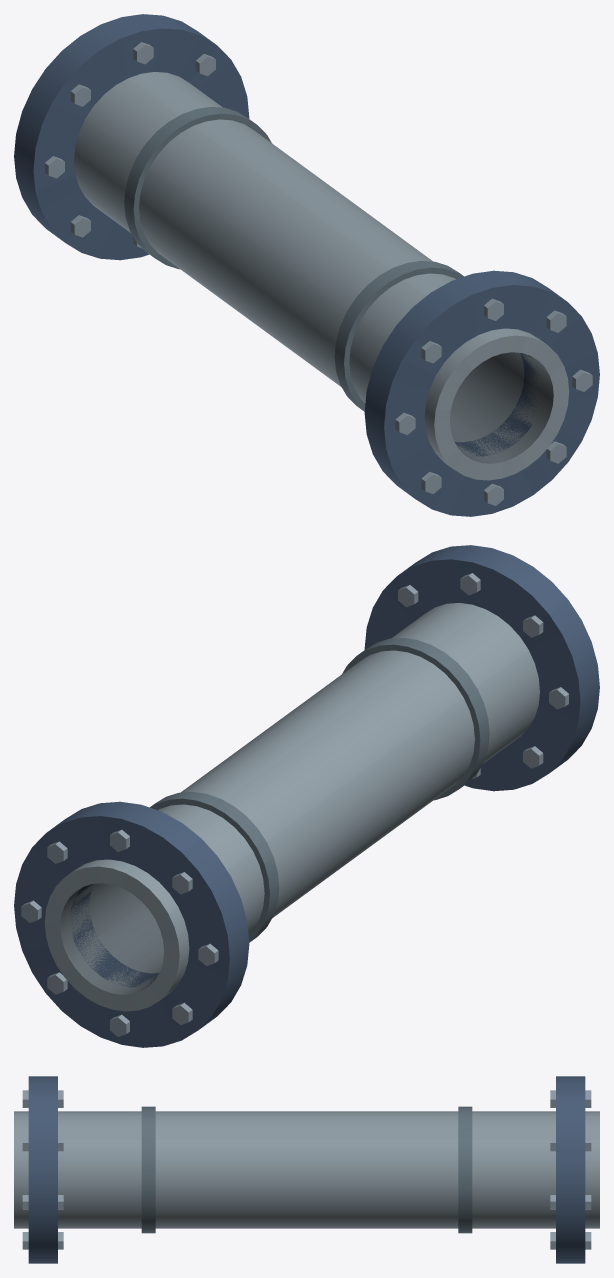
Rendered from pipe.glb.
3 renders of one model, top to bottom at view 1: azimuth 30°, elevation 25°; view 2: azimuth 150°, elevation 25°; view 3: azimuth 270°, elevation 25°, orthographic. The views are drawn at different scales.
Parts seen in each view (by area): view 1: pipe; view 2: pipe; view 3: pipe.
Boxes of the visible parts, x1=… form: pipe: x1=14, y1=14, x2=599, y2=516; pipe: x1=14, y1=545, x2=599, y2=1047; pipe: x1=14, y1=1076, x2=599, y2=1263.
Size of the model in its own units: 0.32 by 0.32 by 1.
